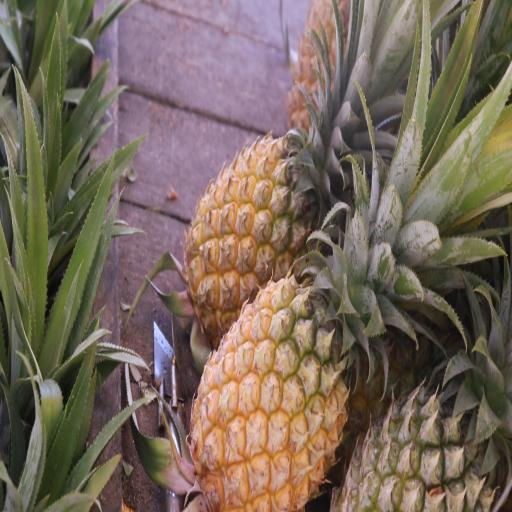Pineapple - v8 v1: (186, 194, 356, 508), (180, 124, 347, 382)
